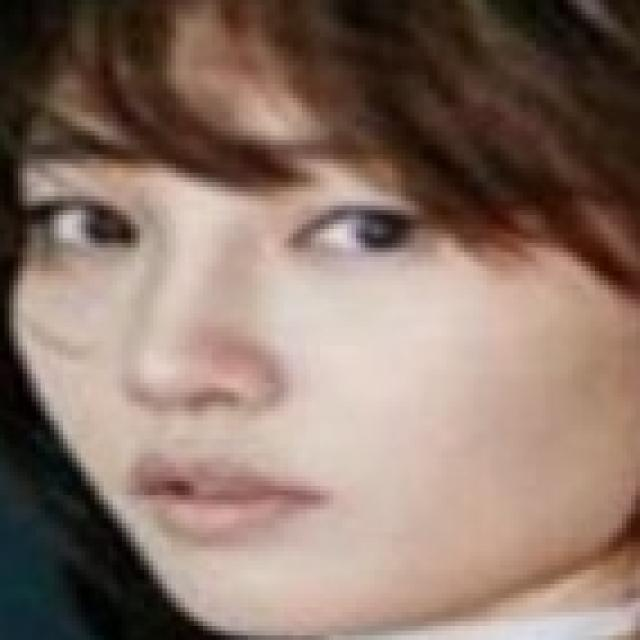no_mask: (26, 51, 622, 629)
